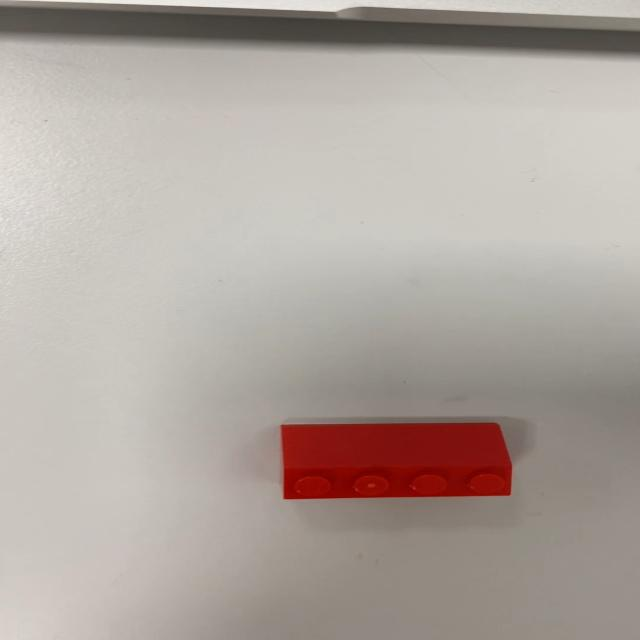P4x2x1: (278, 421, 513, 500)
